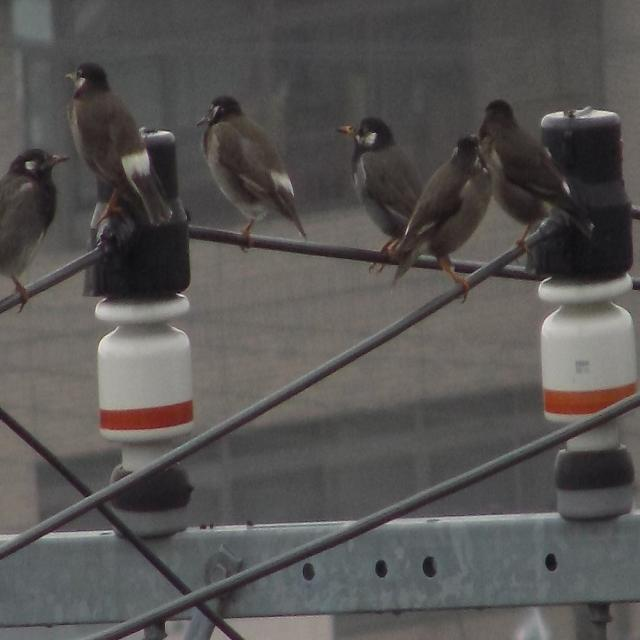bird: (194, 96, 312, 245), (479, 88, 597, 232), (65, 65, 152, 224), (340, 111, 429, 257), (413, 128, 496, 281), (0, 146, 68, 322)
